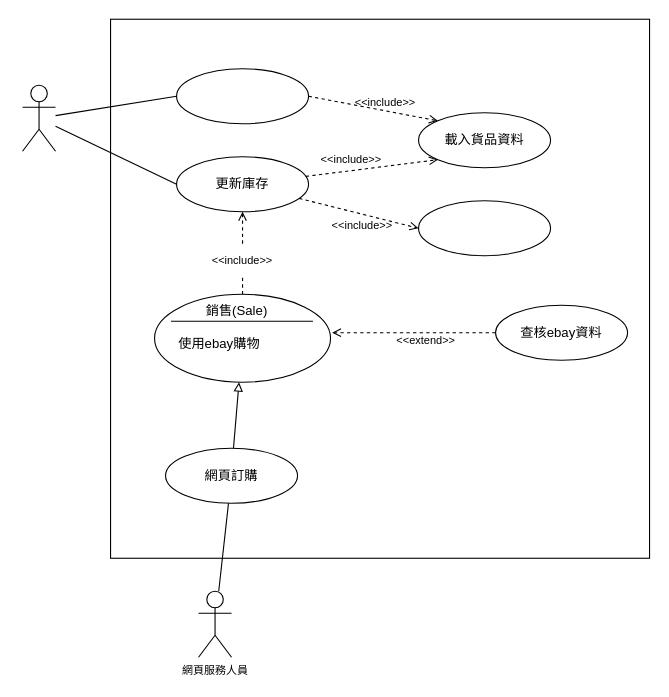
The diagram is 669 pixels wide and 697 high, and some of its shapes have lost their labels. The box of each missing label's shape, as (x1, y1, x2, y2) in pixels:
儲存貨品資料: (417, 200, 551, 256)
產生銷售報表: (175, 68, 309, 124)
管理者: (21, 84, 56, 151)
